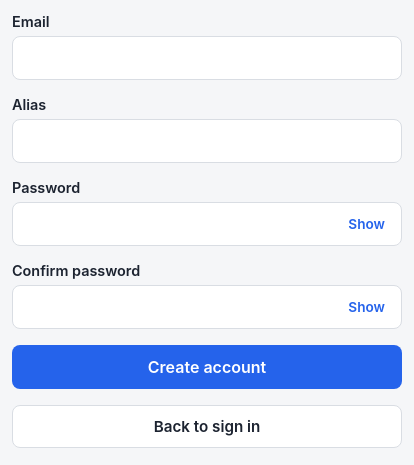
Test: RegistrationForm › disables submission while the request is pending
The width and height of the screenshot is (414, 465).
In the field labelled "Email": (207, 58) [12, 36, 402, 80], type "ana@example.com"
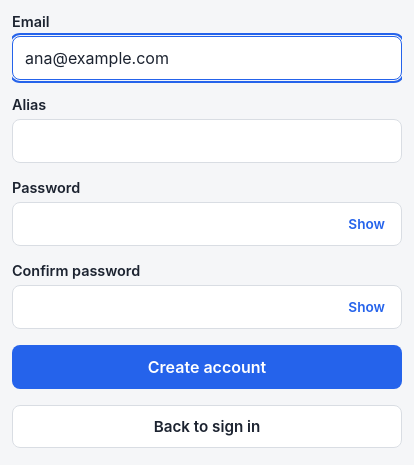
In the field labelled "Alias": (207, 141) [12, 119, 402, 163], type "Ana"
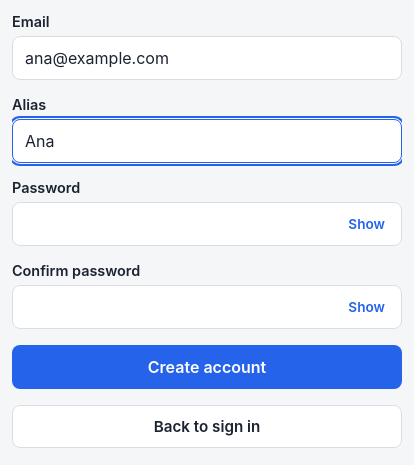
In the password field labelled "Password": (207, 224) [12, 202, 402, 246], type "correct-horse-battery-staple"
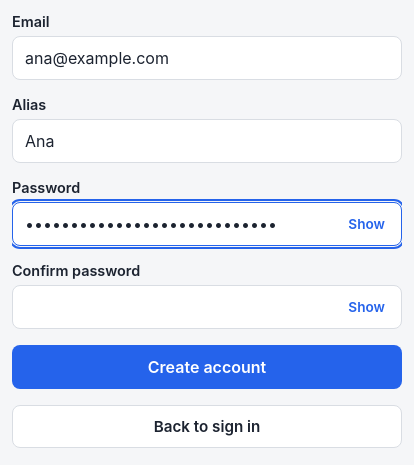
In the password field labelled "Confirm password": (207, 307) [12, 285, 402, 329], type "correct-horse-battery-staple"
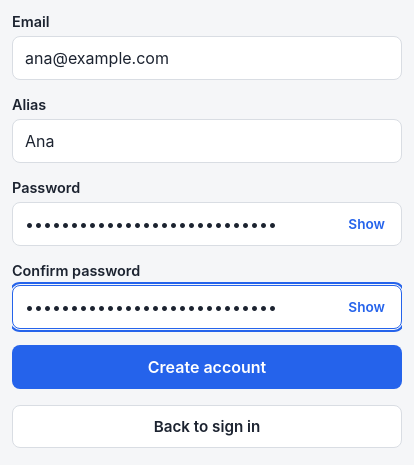
Click the button "Create account": (207, 367) [12, 345, 402, 389]
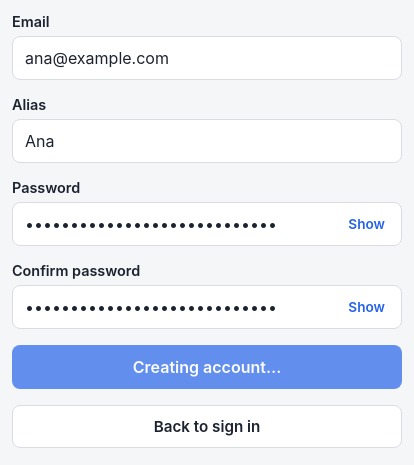
Expected: the button "Creating account…" is disabled, [12, 345, 402, 389]
